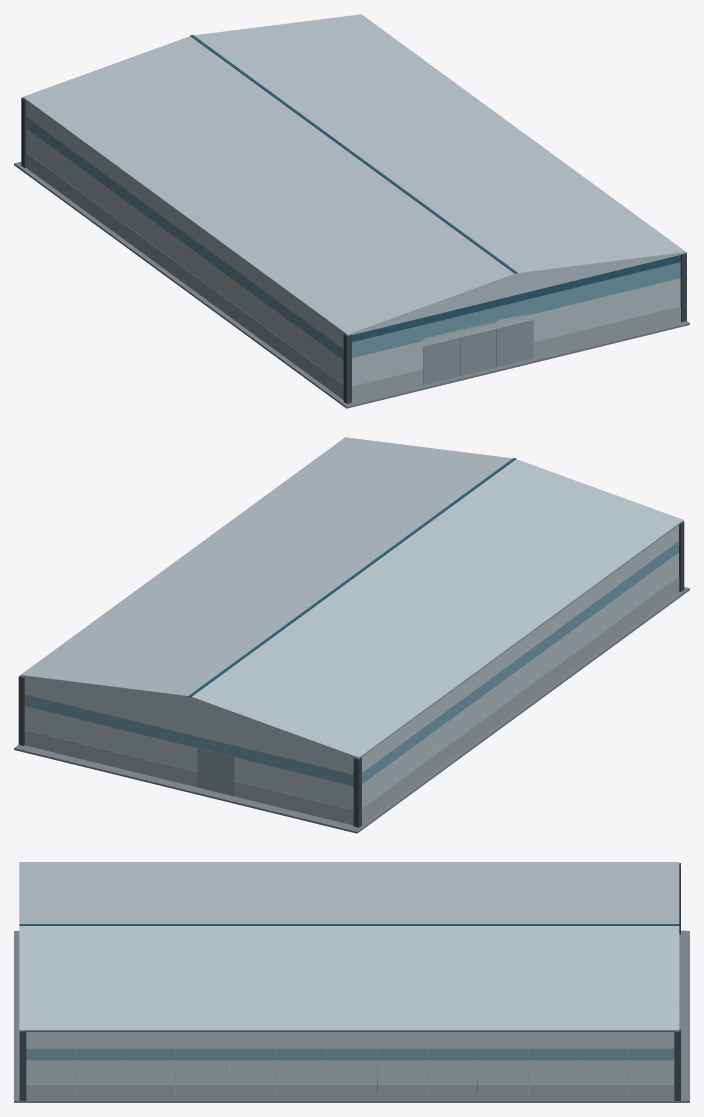
The model's file is AssemblyHall.fbx.
The picture shows the model from 3 angles, top to bottom: view 1: azimuth 30°, elevation 25°; view 2: azimuth 150°, elevation 25°; view 3: azimuth 270°, elevation 25°; orthographic projection.
Visible parts, largest first — view 1: Sealed Roof Panels - Cladding, East Interior Wall - Cladding, North Wall - Cladding, North Wall - Glazing, East Interior Wall - ConcretePanel, Loading Shutters - CladdingShadow, Slab - Concrete, East Clerestory - Glazing, North Wall - ConcretePanel, Gable Infill - Cladding, North Wall - FleetBlue, Corner Closures - DarkSteel (+3 smaller); view 2: Sealed Roof Panels - Cladding, South Interior Wall - Cladding, East Interior Wall - Cladding, East Interior Wall - ConcretePanel, Slab - Concrete, South Interior Wall - ConcretePanel, South Clerestory - Glazing, East Clerestory - Glazing, Gable Infill - Cladding, Corner Closures - DarkSteel, Intake Shutter - CladdingShadow, Ridge Cap - FleetBlue; view 3: Sealed Roof Panels - Cladding, West Wall - Cladding, West Wall - ConcretePanel, West Wall - Glazing, Slab - Concrete, Ridge Cap - FleetBlue, Corner Closures - DarkSteel, West Top Closure - FleetBlue.
Boxes of the visible parts, box(x1,y1,x2,y2) form: Sealed Roof Panels - Cladding: box(23, 14, 685, 335); East Interior Wall - Cladding: box(26, 101, 343, 384); North Wall - Cladding: box(352, 278, 680, 386); North Wall - Glazing: box(352, 262, 680, 358); East Interior Wall - ConcretePanel: box(26, 152, 343, 399); Loading Shutters - CladdingShadow: box(423, 320, 533, 384); Slab - Concrete: box(14, 161, 689, 408); East Clerestory - Glazing: box(26, 117, 343, 360); North Wall - ConcretePanel: box(352, 306, 680, 402); Gable Infill - Cladding: box(366, 255, 668, 329); North Wall - FleetBlue: box(352, 255, 680, 342); Corner Closures - DarkSteel: box(21, 97, 686, 403); Sealed Roof Panels - Cladding: box(20, 437, 683, 758); South Interior Wall - Cladding: box(25, 677, 354, 809); East Interior Wall - Cladding: box(362, 525, 678, 807); East Interior Wall - ConcretePanel: box(362, 576, 679, 823); Slab - Concrete: box(14, 587, 689, 833); South Interior Wall - ConcretePanel: box(25, 730, 353, 825); South Clerestory - Glazing: box(25, 694, 353, 786); East Clerestory - Glazing: box(362, 541, 678, 784); Gable Infill - Cladding: box(26, 677, 352, 756); Corner Closures - DarkSteel: box(18, 521, 684, 827); Intake Shutter - CladdingShadow: box(197, 748, 234, 796); Ridge Cap - FleetBlue: box(189, 458, 516, 696); Sealed Roof Panels - Cladding: box(19, 862, 679, 1031); West Wall - Cladding: box(26, 1032, 674, 1084); West Wall - ConcretePanel: box(26, 1084, 674, 1100); West Wall - Glazing: box(26, 1048, 674, 1060); Slab - Concrete: box(14, 931, 689, 1102); Ridge Cap - FleetBlue: box(19, 924, 679, 925); Corner Closures - DarkSteel: box(19, 863, 680, 1100); West Top Closure - FleetBlue: box(26, 1031, 674, 1031).
Bounding box in the file's own units: 5601 × 1434 × 9400.
